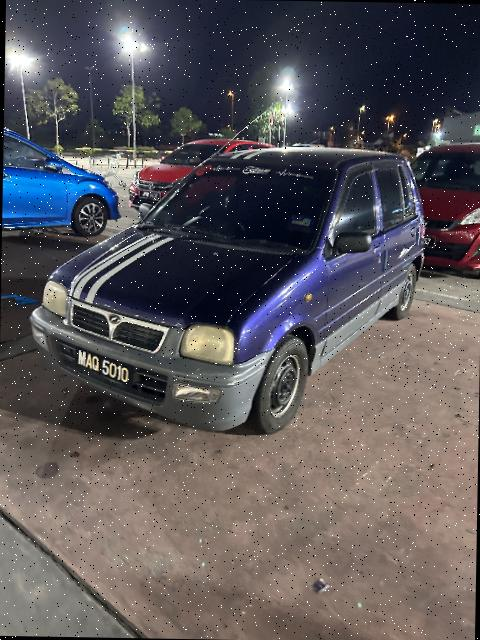License_Plate: (76, 350, 135, 389), (139, 188, 164, 201)
car: (32, 137, 426, 444)
